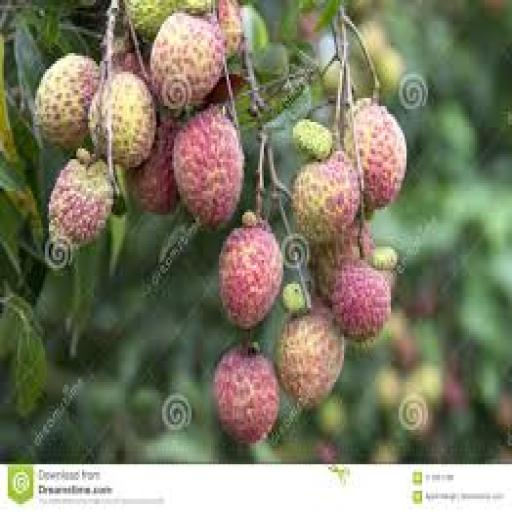lychee: (174, 107, 244, 228), (151, 14, 224, 111), (276, 306, 343, 408), (219, 223, 283, 328), (90, 72, 156, 169), (214, 345, 279, 443), (294, 152, 359, 244), (36, 54, 99, 148), (354, 101, 406, 212), (49, 160, 113, 246), (311, 221, 375, 299), (128, 117, 177, 214), (333, 260, 390, 342), (126, 0, 213, 39), (294, 120, 334, 161), (217, 0, 242, 58)
